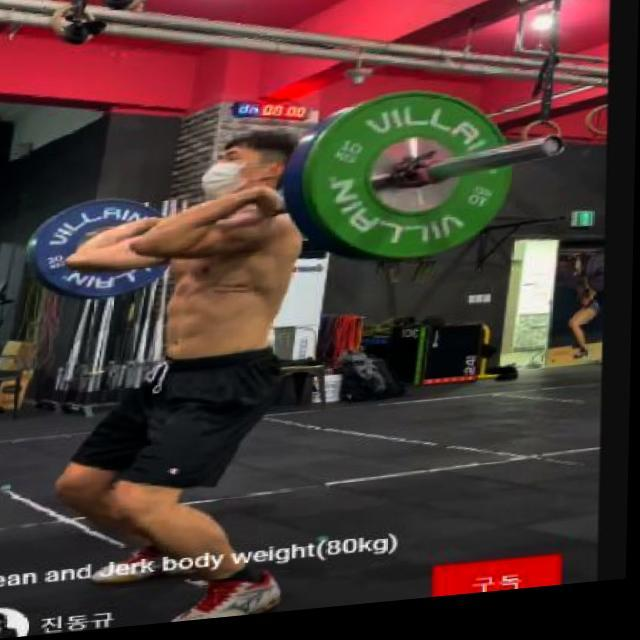barbell: (301, 82, 568, 285)
